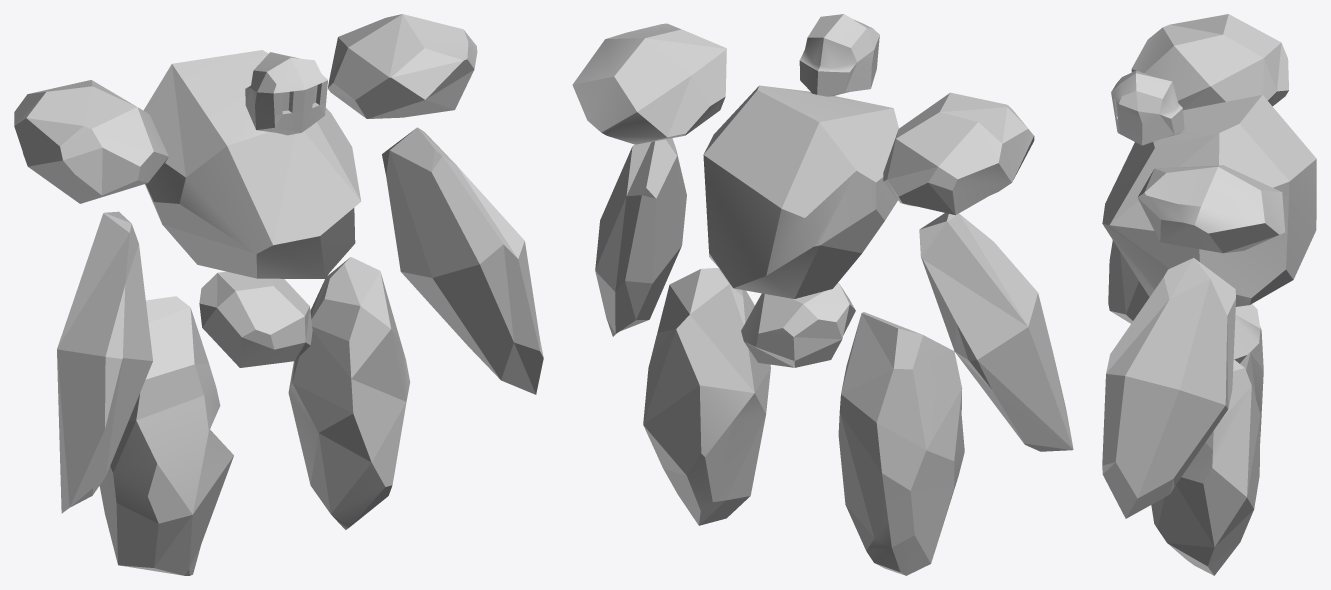
File: Golem.fbx
The picture shows the model from 3 angles, left to right: view 1: azimuth 30°, elevation 25°; view 2: azimuth 150°, elevation 25°; view 3: azimuth 270°, elevation 25°; orthographic projection. The views are drawn at different scales.
Visible parts, largest first — view 1: polySurface34, polySurface39, polySurface35, polySurface38, polySurface40, polySurface37, polySurface33, polySurface36, polySurface41; view 2: polySurface34, polySurface35, polySurface38, polySurface40, polySurface33, polySurface37, polySurface39, polySurface36, polySurface41; view 3: polySurface39, polySurface34, polySurface38, polySurface37, polySurface33, polySurface41, polySurface40, polySurface36, polySurface35.
Part boxes in pixels (x1=…): polySurface34: x1=143, y1=50, x2=361, y2=278; polySurface39: x1=382, y1=127, x2=543, y2=394; polySurface35: x1=99, y1=296, x2=233, y2=575; polySurface38: x1=288, y1=257, x2=410, y2=529; polySurface40: x1=57, y1=211, x2=152, y2=513; polySurface37: x1=14, y1=80, x2=168, y2=203; polySurface33: x1=328, y1=14, x2=477, y2=118; polySurface36: x1=199, y1=271, x2=312, y2=367; polySurface41: x1=245, y1=52, x2=327, y2=135; polySurface34: x1=703, y1=85, x2=898, y2=298; polySurface35: x1=838, y1=312, x2=964, y2=575; polySurface38: x1=643, y1=268, x2=770, y2=525; polySurface40: x1=919, y1=213, x2=1073, y2=451; polySurface33: x1=572, y1=23, x2=726, y2=144; polySurface37: x1=883, y1=92, x2=1034, y2=215; polySurface39: x1=595, y1=138, x2=686, y2=336; polySurface36: x1=741, y1=283, x2=855, y2=367; polySurface41: x1=799, y1=14, x2=879, y2=96; polySurface39: x1=1102, y1=258, x2=1235, y2=518; polySurface34: x1=1102, y1=95, x2=1316, y2=306; polySurface38: x1=1151, y1=359, x2=1260, y2=575; polySurface37: x1=1131, y1=14, x2=1288, y2=110; polySurface33: x1=1137, y1=165, x2=1285, y2=253; polySurface41: x1=1111, y1=70, x2=1184, y2=145; polySurface40: x1=1108, y1=240, x2=1149, y2=323; polySurface36: x1=1233, y1=304, x2=1260, y2=363; polySurface35: x1=1240, y1=326, x2=1263, y2=436.
Bounding box in the file's own units: 1347 × 1402 × 595.
